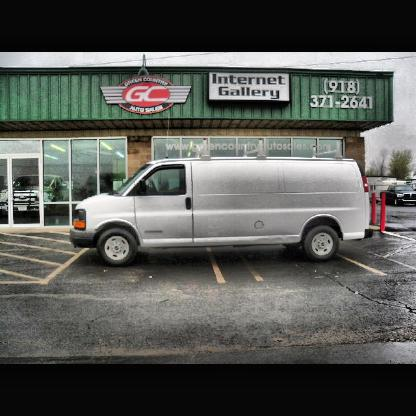Chevrolet Express Cargo Van 2007: (70, 149, 375, 268)
